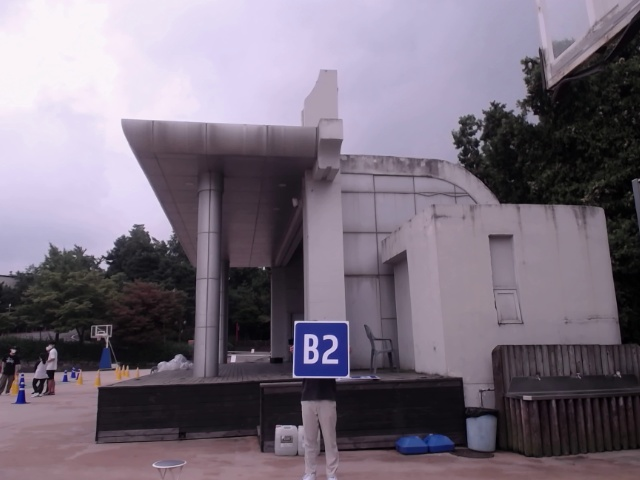delivery_b2: (295, 323, 349, 378)
